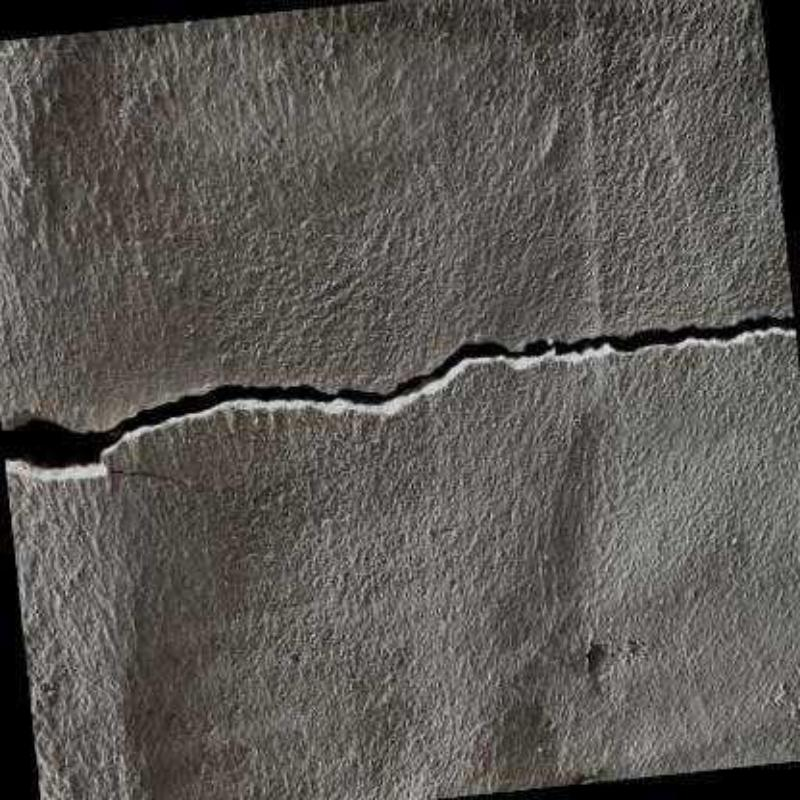crack: (2, 311, 796, 467), (108, 469, 217, 492)
